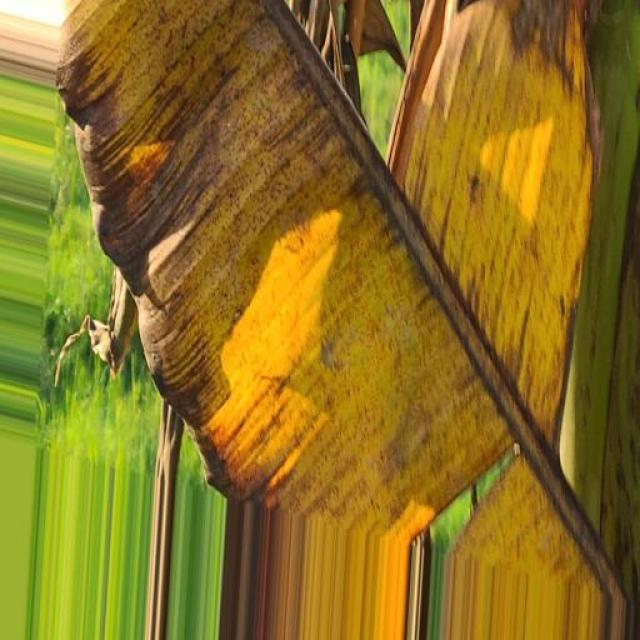Cordana: (50, 0, 640, 590)
